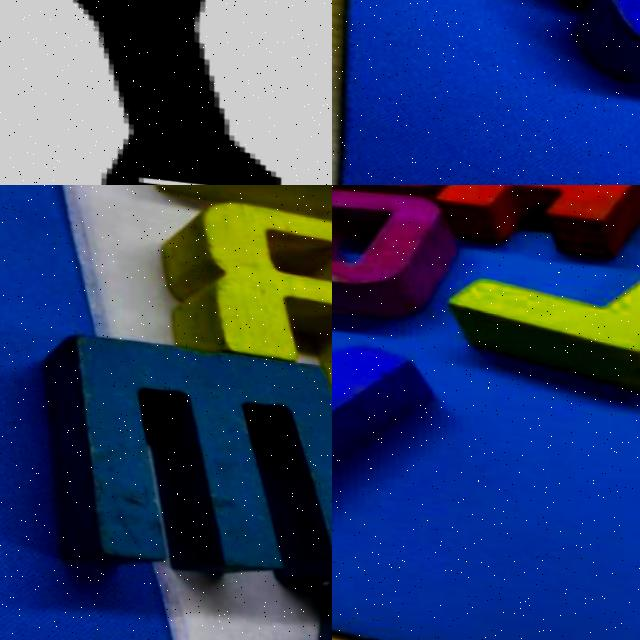A: (433, 185, 640, 259)
B: (487, 0, 640, 124)
G: (332, 185, 490, 331)
L: (440, 205, 640, 407), (123, 185, 332, 234)
M: (0, 316, 332, 602)
N: (332, 283, 476, 557)
R: (124, 186, 332, 402)
Y: (0, 0, 332, 185)
